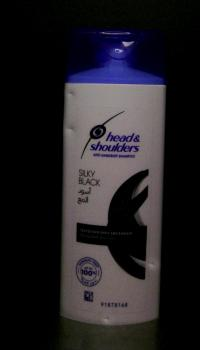dent_unacceptable: (66, 88, 81, 106), (64, 123, 78, 141), (147, 257, 159, 276), (98, 311, 114, 324)
